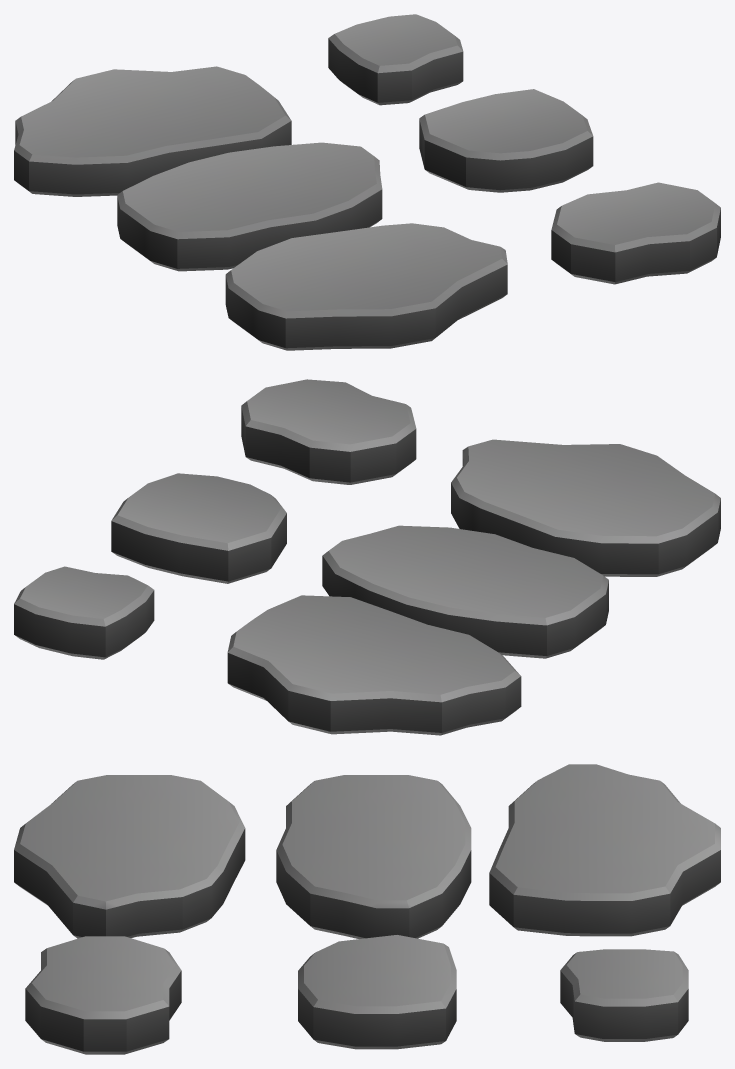
The model's file is Rock Assets 2.fbx.
3 renders of one model, top to bottom at view 1: azimuth 30°, elevation 25°; view 2: azimuth 150°, elevation 25°; view 3: azimuth 270°, elevation 25°, orthographic. The views are drawn at different scales.
Visible parts, largest first — view 1: Rock_1, Rock_3, Rock_2, Rock_5, Rock_4, Rock_6; view 2: Rock_3, Rock_1, Rock_2, Rock_5, Rock_4, Rock_6; view 3: Rock_3, Rock_1, Rock_2, Rock_5, Rock_4, Rock_6.
Boxes of the visible parts, box(x1,y1,x2,y2) form: Rock_1: box(225, 223, 507, 350); Rock_3: box(14, 66, 291, 196); Rock_2: box(117, 142, 382, 271); Rock_5: box(419, 89, 593, 192); Rock_4: box(551, 182, 720, 284); Rock_6: box(328, 14, 463, 105); Rock_3: box(227, 595, 521, 735); Rock_1: box(451, 439, 720, 576); Rock_2: box(322, 525, 608, 658); Rock_5: box(111, 473, 286, 583); Rock_4: box(241, 379, 416, 484); Rock_6: box(14, 566, 154, 659); Rock_3: box(489, 764, 720, 936); Rock_1: box(14, 775, 245, 938); Rock_2: box(276, 775, 471, 938); Rock_5: box(298, 935, 456, 1049); Rock_4: box(25, 936, 181, 1054); Rock_6: box(560, 949, 688, 1041).
Bounding box in the file's own units: 29.49 × 2.36 × 34.98.
